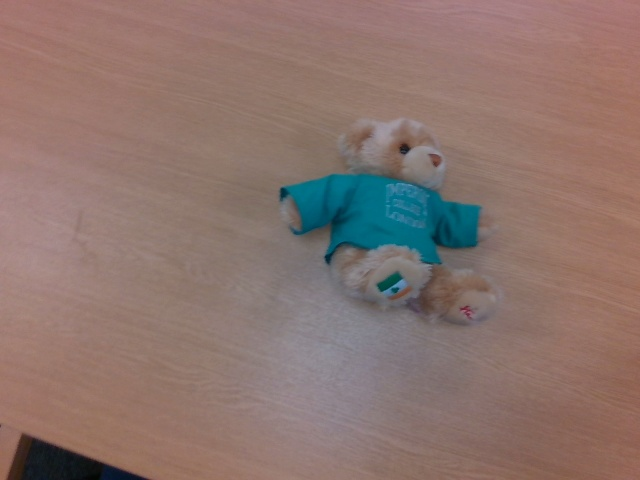teddy: (280, 116, 506, 330)
